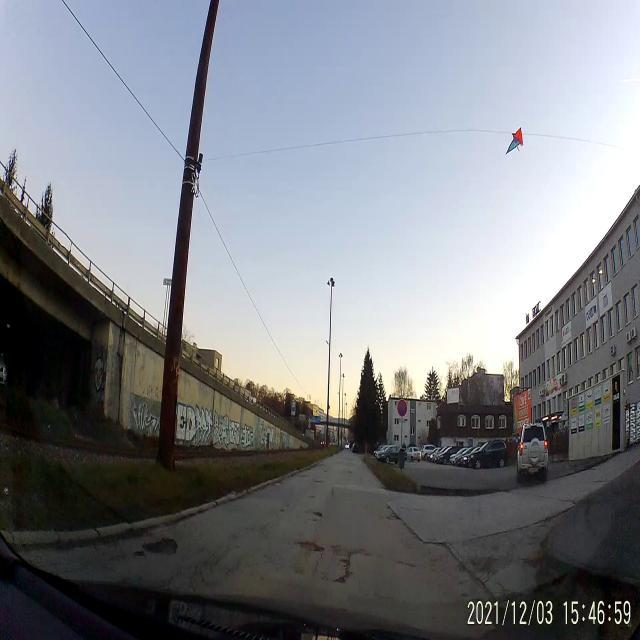Pothole: (138, 534, 184, 564), (335, 547, 355, 588), (295, 536, 327, 560), (387, 502, 404, 524), (310, 507, 328, 522), (277, 505, 287, 515), (313, 477, 323, 486)
